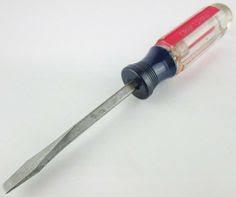screwdriver: (0, 0, 233, 196)
